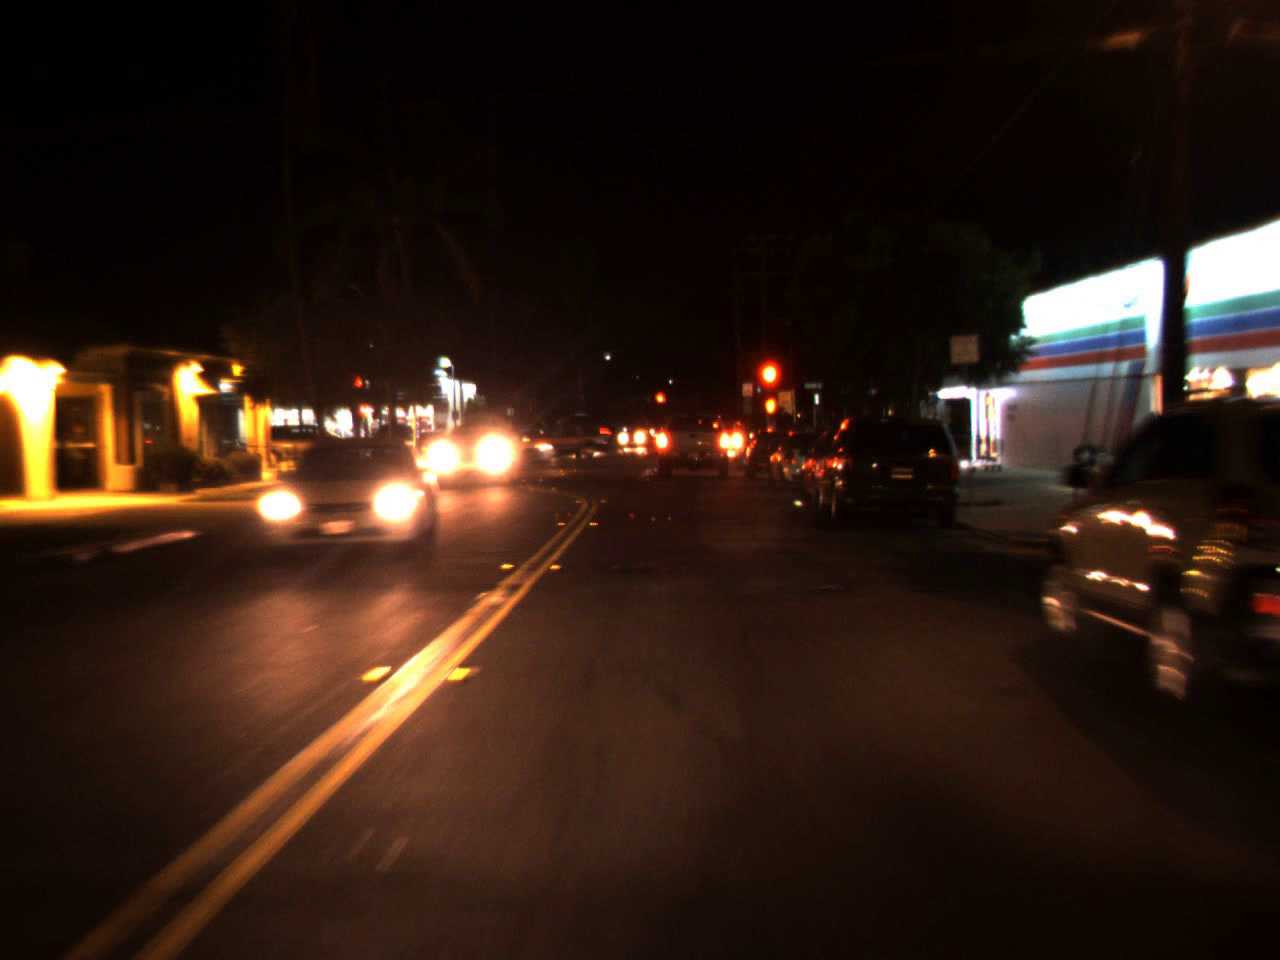stop: (752, 355, 785, 425), (653, 390, 666, 414), (354, 375, 363, 399)
